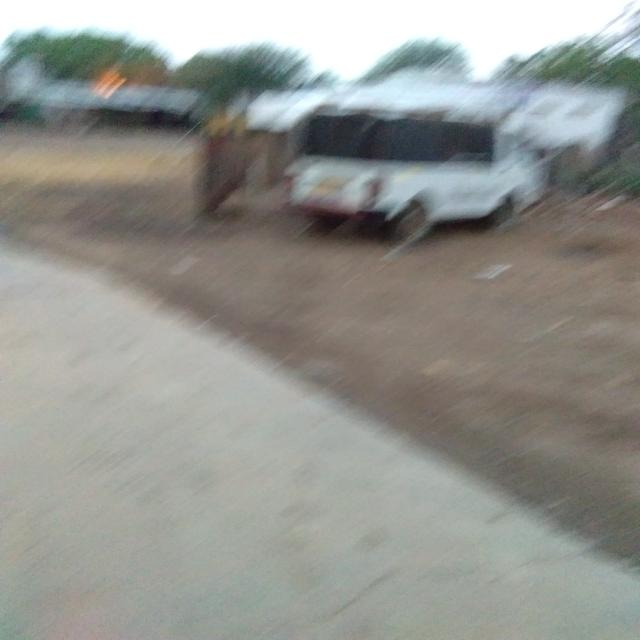Truck: (287, 114, 545, 242)
